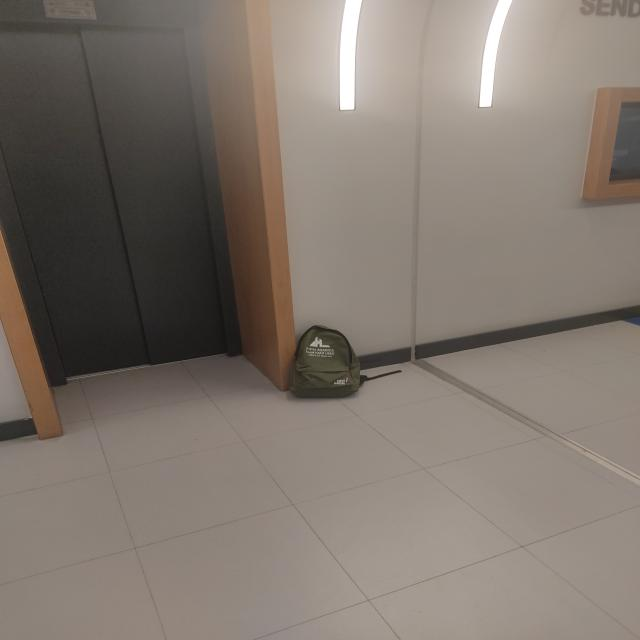bag: (290, 324, 369, 402)
